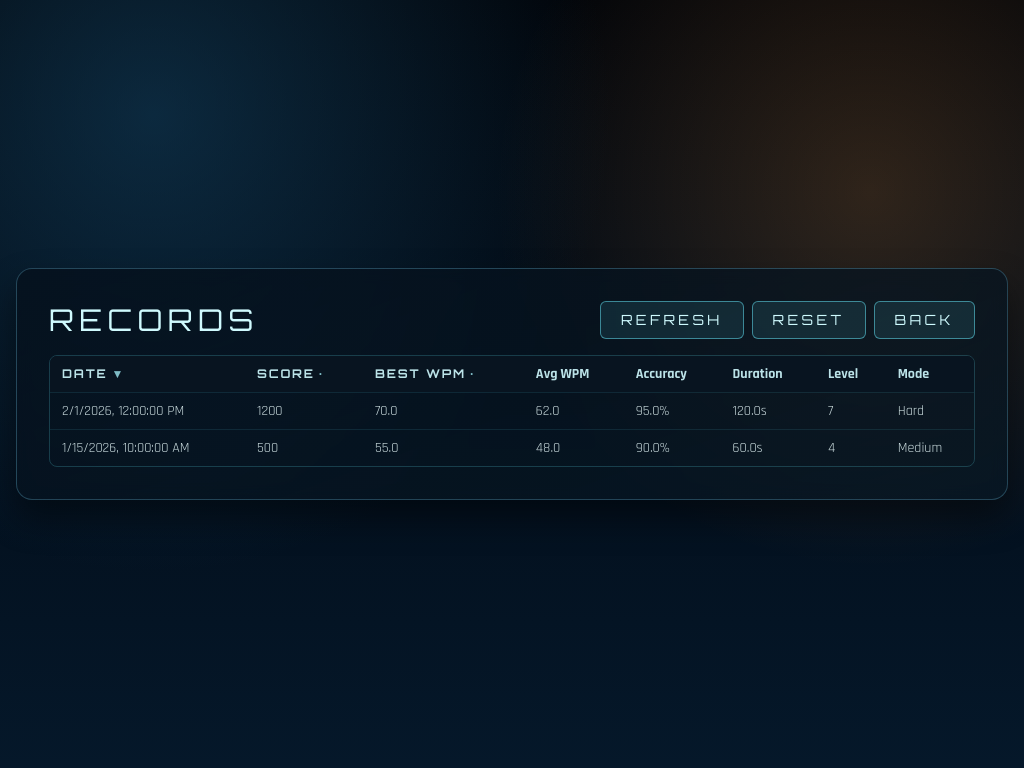
Test case: RecordsScreen › shows reset confirmation when Reset is clicked
Click the button "Reset". click: (809, 320)
box: [752,301,866,339]
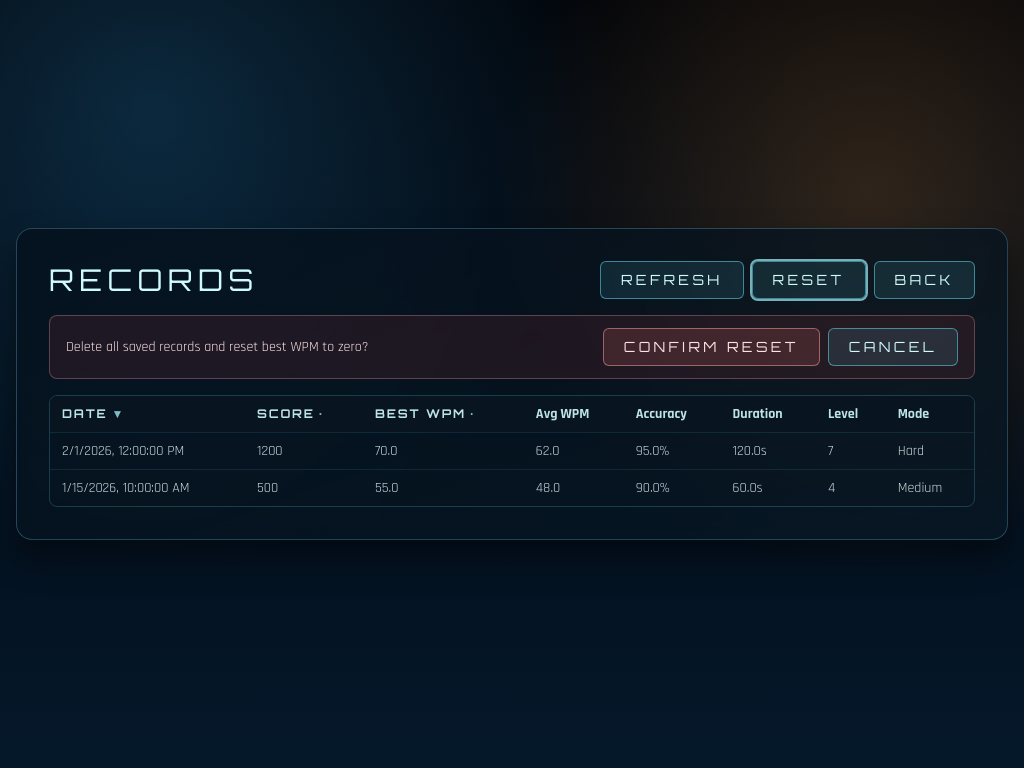
Now the text "Delete all saved records and reset best WPM to zero?" is shown, box [66,337,368,357]
Now the button "Confirm Reset" is shown, box [603,328,820,366]
